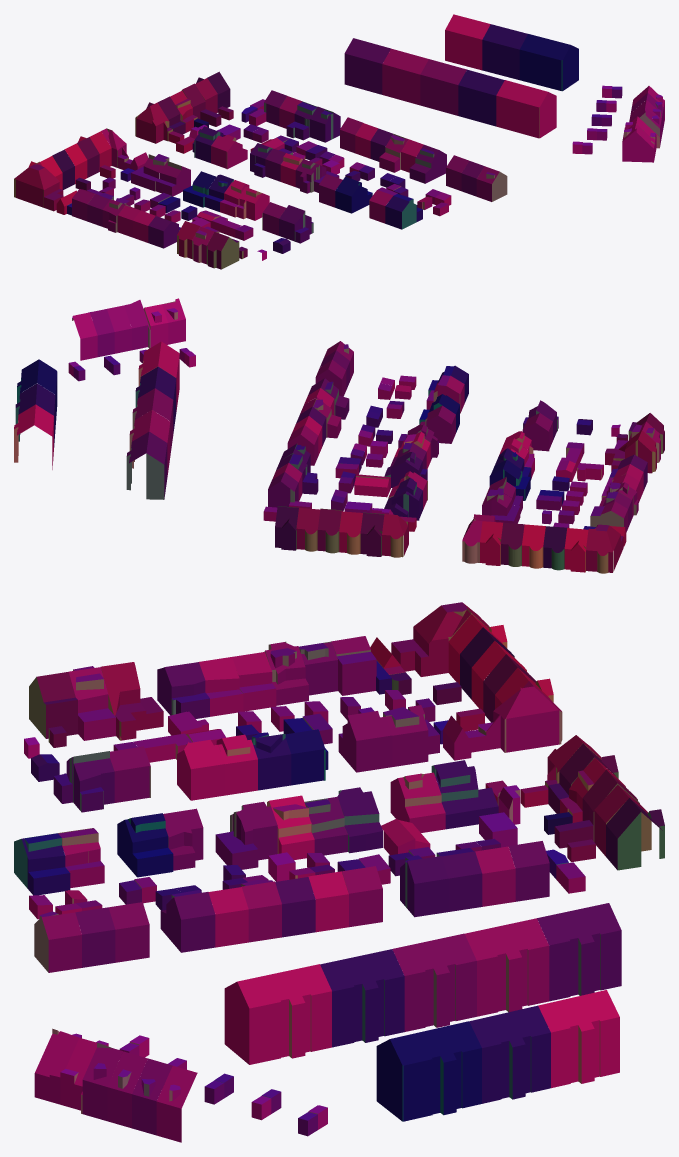
The model's file is buildings_9_14.glb.
3 views of the same model, one above another, from view 1: azimuth 30°, elevation 25°; view 2: azimuth 150°, elevation 25°; view 3: azimuth 270°, elevation 25° (orthographic). The views are drawn at different scales.
Parts seen in each view (by area): view 1: buildings_9_14; view 2: buildings_9_14; view 3: buildings_9_14.
Part boxes in pixels (x1,y1,x2,y2): buildings_9_14: (14,14,664,269); buildings_9_14: (14,298,664,573); buildings_9_14: (14,602,664,1142).
Size of the model in its own units: 199 by 13.74 by 111.
